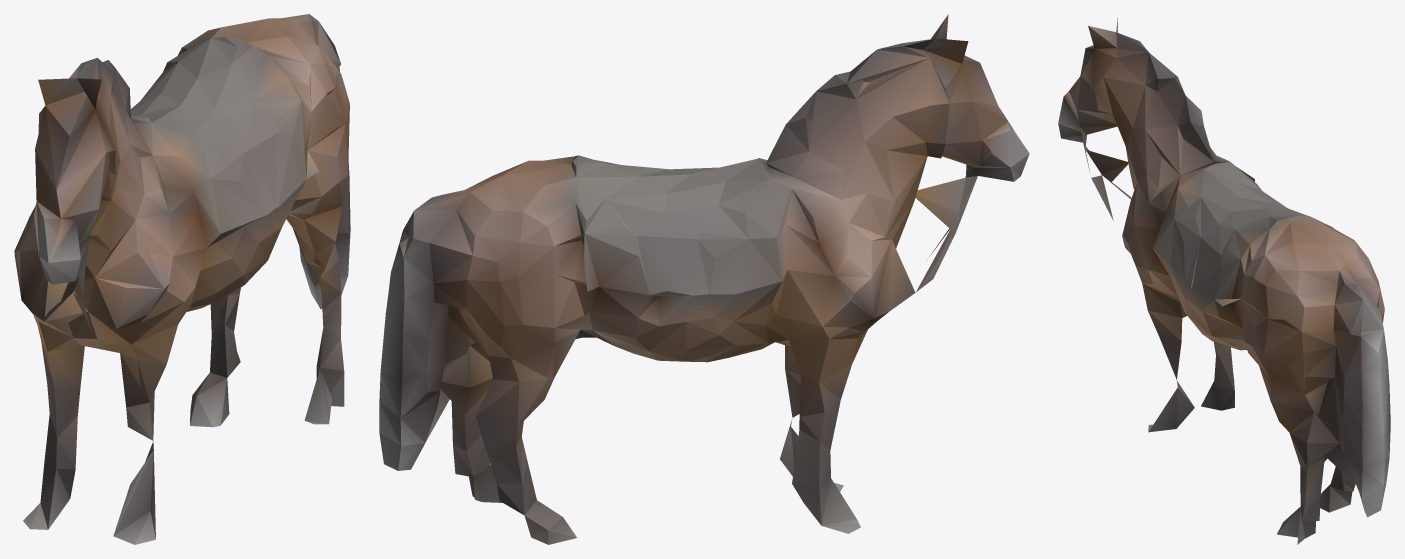
Rendered from horse_lod2.glb.
3 views of the same model, side by side, from view 1: azimuth 30°, elevation 25°; view 2: azimuth 150°, elevation 25°; view 3: azimuth 270°, elevation 25° (orthographic). The views are drawn at different scales.
Parts seen in each view (by area): view 1: geometry_0; view 2: geometry_0; view 3: geometry_0.
Part boxes in pixels (bbox=[...]): geometry_0: bbox=[14, 14, 350, 544]; geometry_0: bbox=[379, 14, 1029, 544]; geometry_0: bbox=[1058, 18, 1390, 544].
Size of the model in its own units: 0.8401 by 0.8312 by 0.6543.
